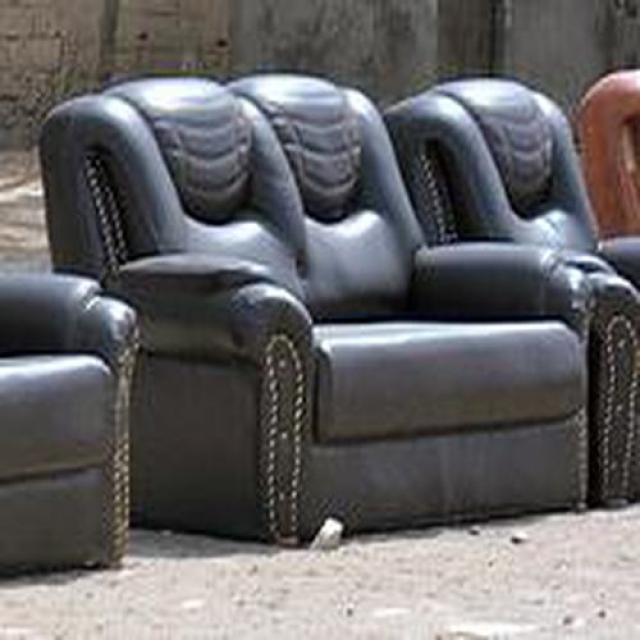sofa: (37, 76, 640, 549)
